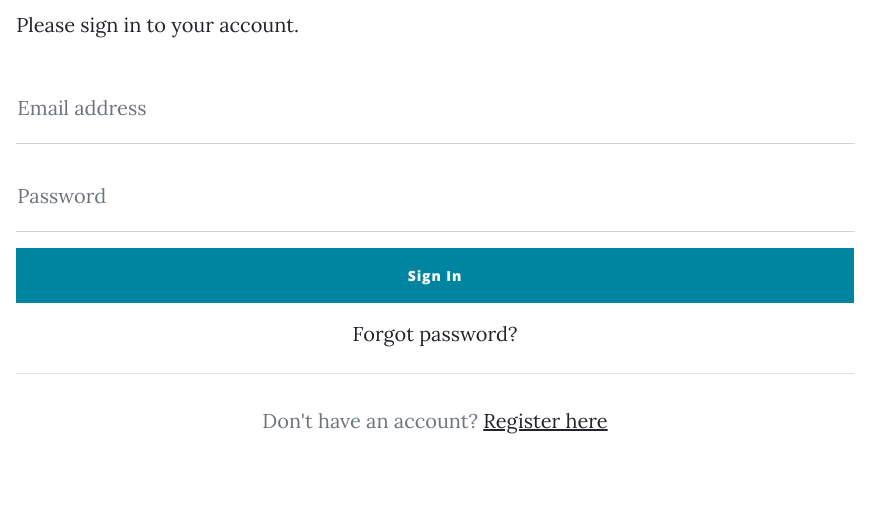
Test case: pinned auth views › clears the password after a failed login rather than leaving a secret in the DOM
In the field labelled "Email address": coordinates (435, 108) [16,72,854,144], type "e@example.com"
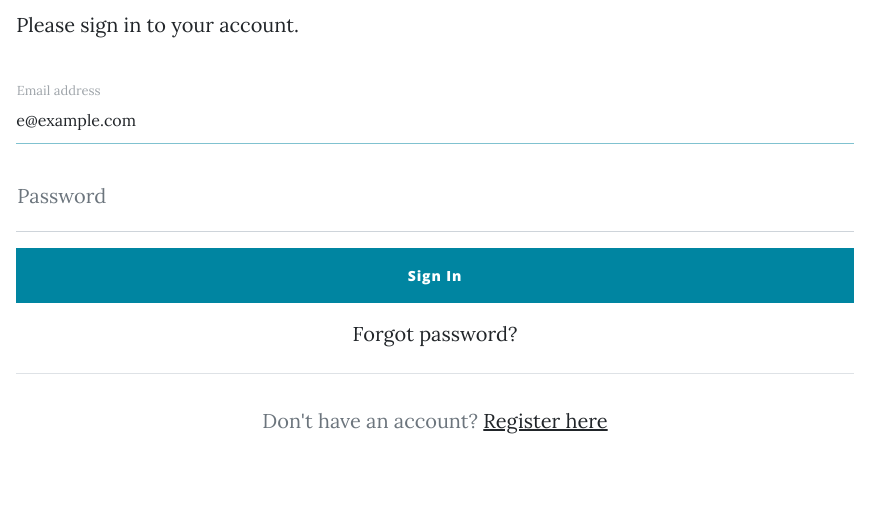
In the password field labelled "Password": coordinates (435, 196) [16,160,854,232], type "secret123"
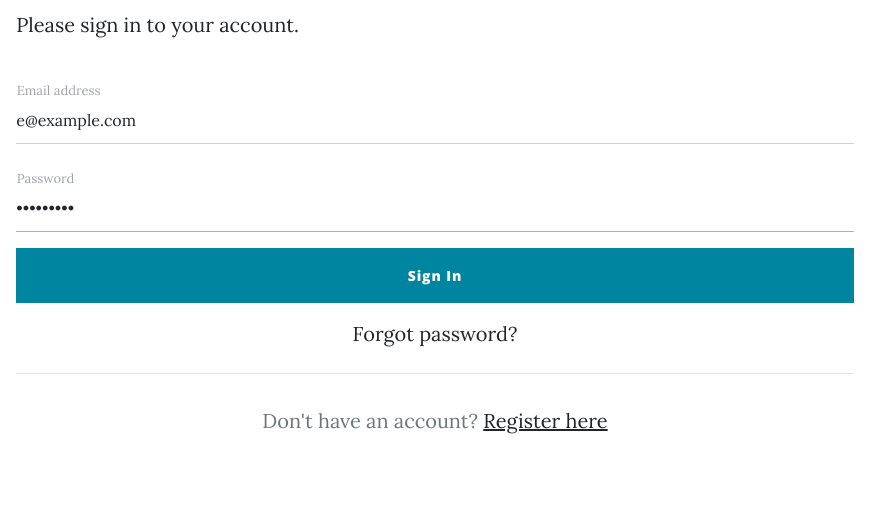
Click the button "Sign In": coordinates (435, 276) [16,248,854,303]
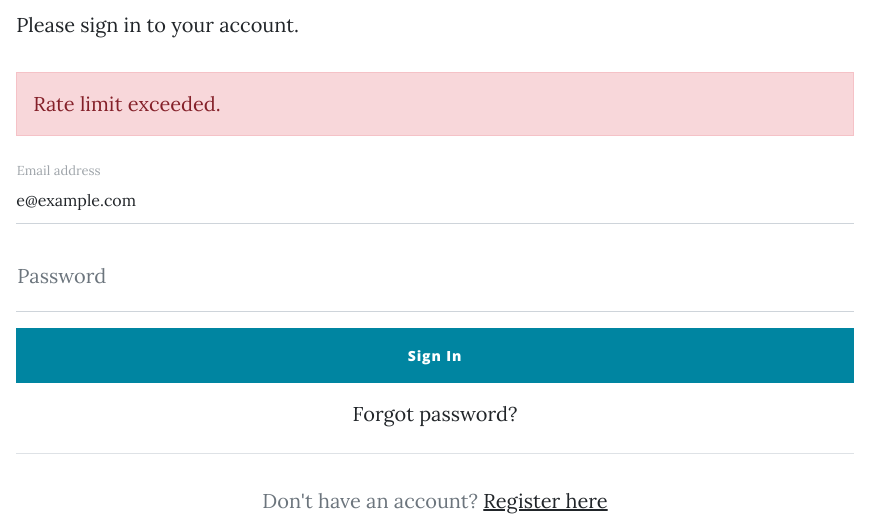
Check: the message reads "Rate limit exceeded.", box [33,91,221,116]
Check: the password field labelled "Password" is empty, box [16,240,854,312]
